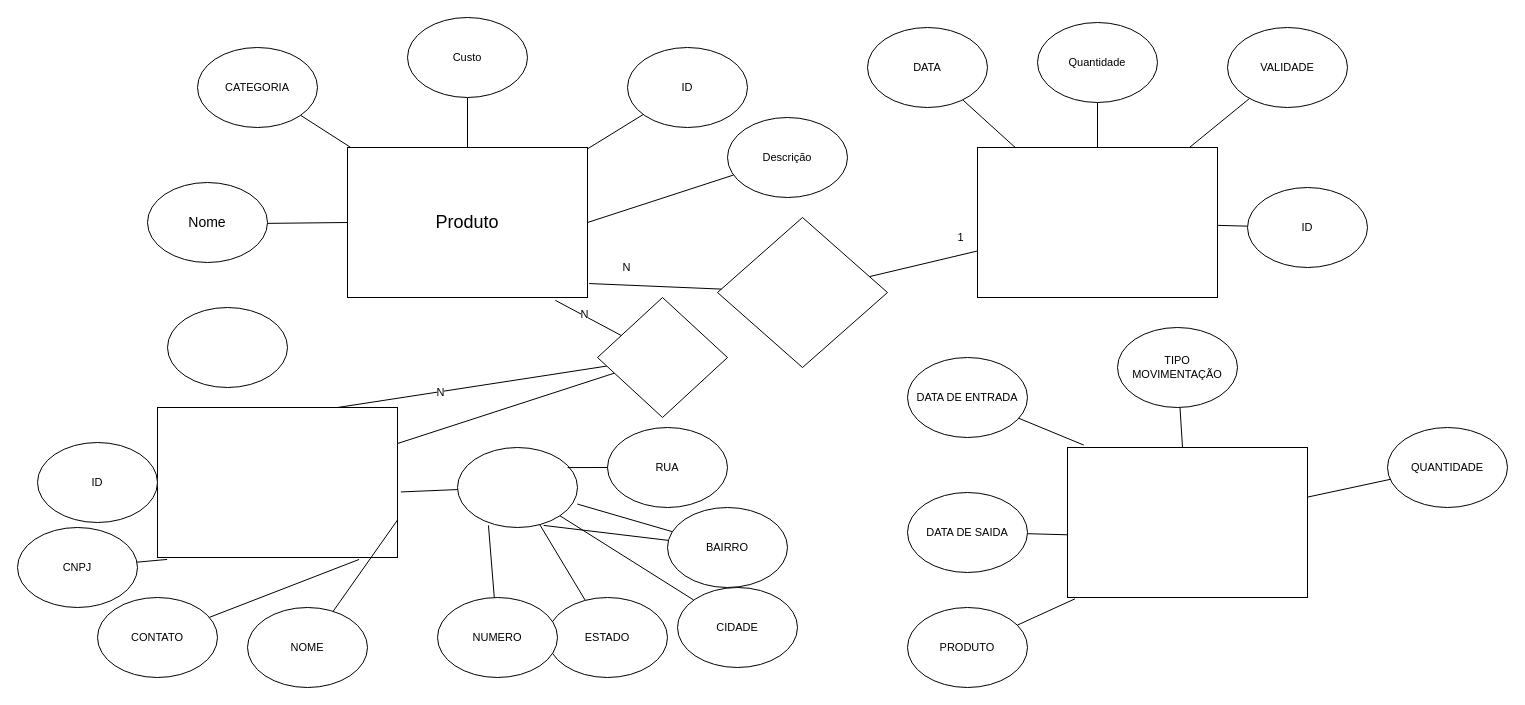
Image size: 1525x705. Some labels were removed from this diagram. Here are the shapes that lost their labels. From the top down, the box of each, then its label:
(976, 146, 1218, 298): Estoque
(716, 216, 888, 368): ESTA EM ESTOQUE
(166, 306, 288, 388): RAZAO SOCIAL
(596, 296, 728, 418): TEM FORNECEDOR
(156, 406, 398, 558): Fornecedor
(456, 446, 578, 528): ENDEREÇO
(1066, 446, 1308, 598): MOVIMENTACAO DE ESTOQUE
